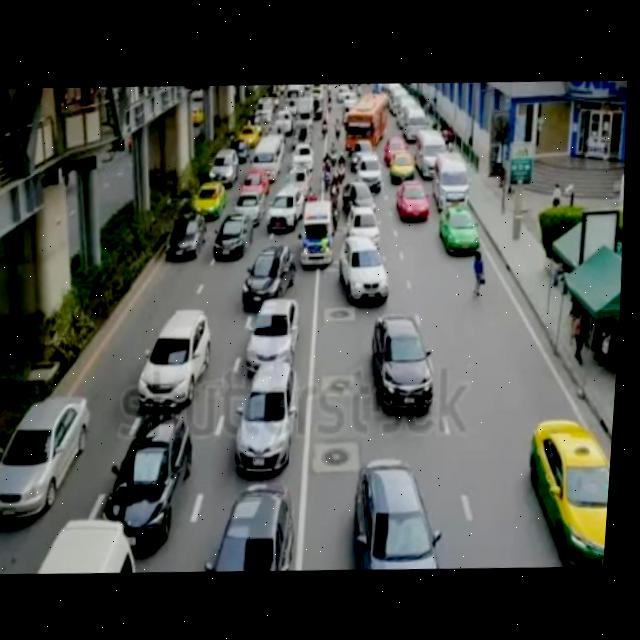emergency: (300, 206, 340, 267)
